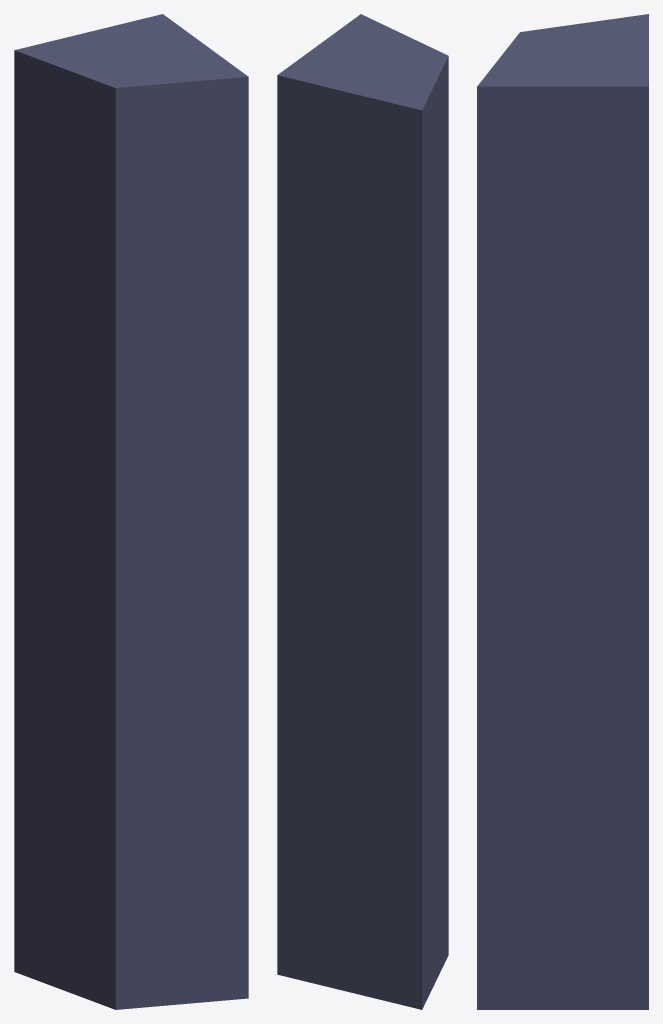
Rendered from kenney_nature-kit__cliff_corner_rock__cave.fbx.
The picture shows the model from 3 angles, left to right: view 1: azimuth 30°, elevation 25°; view 2: azimuth 150°, elevation 25°; view 3: azimuth 270°, elevation 25°; orthographic projection. The views are drawn at different scales.
Visible parts, largest first — view 1: kenney_nature-kit__cliff_corner_rock__cave_stone; view 2: kenney_nature-kit__cliff_corner_rock__cave_stone; view 3: kenney_nature-kit__cliff_corner_rock__cave_stone.
Boxes of the visible parts, x1,y1,x2,y2 form: kenney_nature-kit__cliff_corner_rock__cave_stone: (14,14,248,1009); kenney_nature-kit__cliff_corner_rock__cave_stone: (277,14,448,1009); kenney_nature-kit__cliff_corner_rock__cave_stone: (477,14,648,1009).
Size of the model in its own units: 0.6018 by 3.57 by 0.6018.
1 material, 1 textured.
